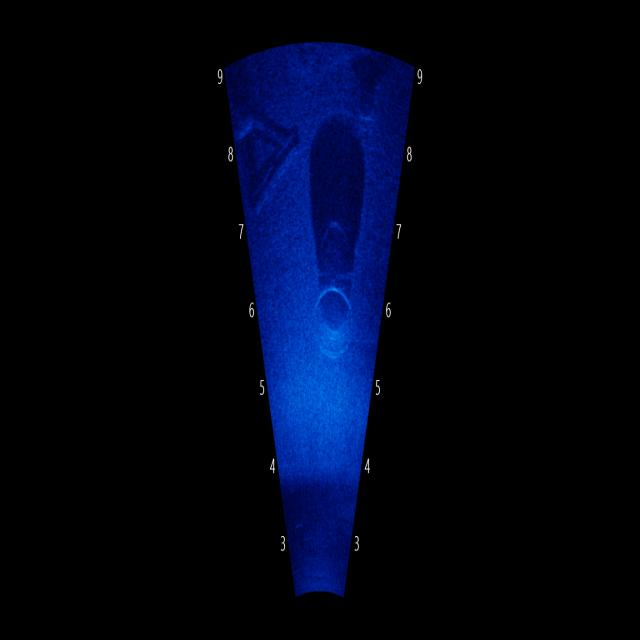circle: (307, 252, 362, 386)
triangle: (237, 82, 302, 222)
